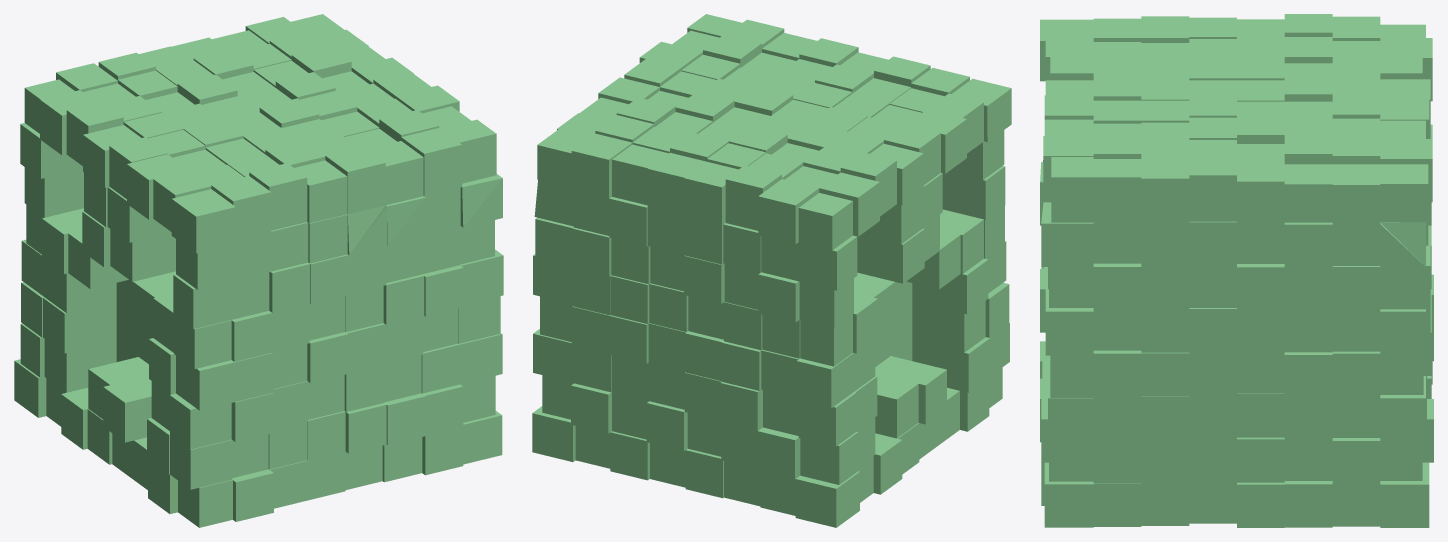
Rendered from Epic Uusam.glb.
3 views of the same model, side by side, from view 1: azimuth 30°, elevation 25°; view 2: azimuth 150°, elevation 25°; view 3: azimuth 270°, elevation 25° (orthographic). The views are drawn at different scales.
Visible parts, largest first — view 1: Mesh_Mesh_head_geo.001_lambert2SG.001; view 2: Mesh_Mesh_head_geo.001_lambert2SG.001; view 3: Mesh_Mesh_head_geo.001_lambert2SG.001.
Part boxes in pixels (x1,y1,x2,y2): Mesh_Mesh_head_geo.001_lambert2SG.001: [14, 14, 503, 527]; Mesh_Mesh_head_geo.001_lambert2SG.001: [532, 14, 1011, 527]; Mesh_Mesh_head_geo.001_lambert2SG.001: [1040, 14, 1433, 527].
Size of the model in its own units: 23.68 by 23.34 by 23.68.
